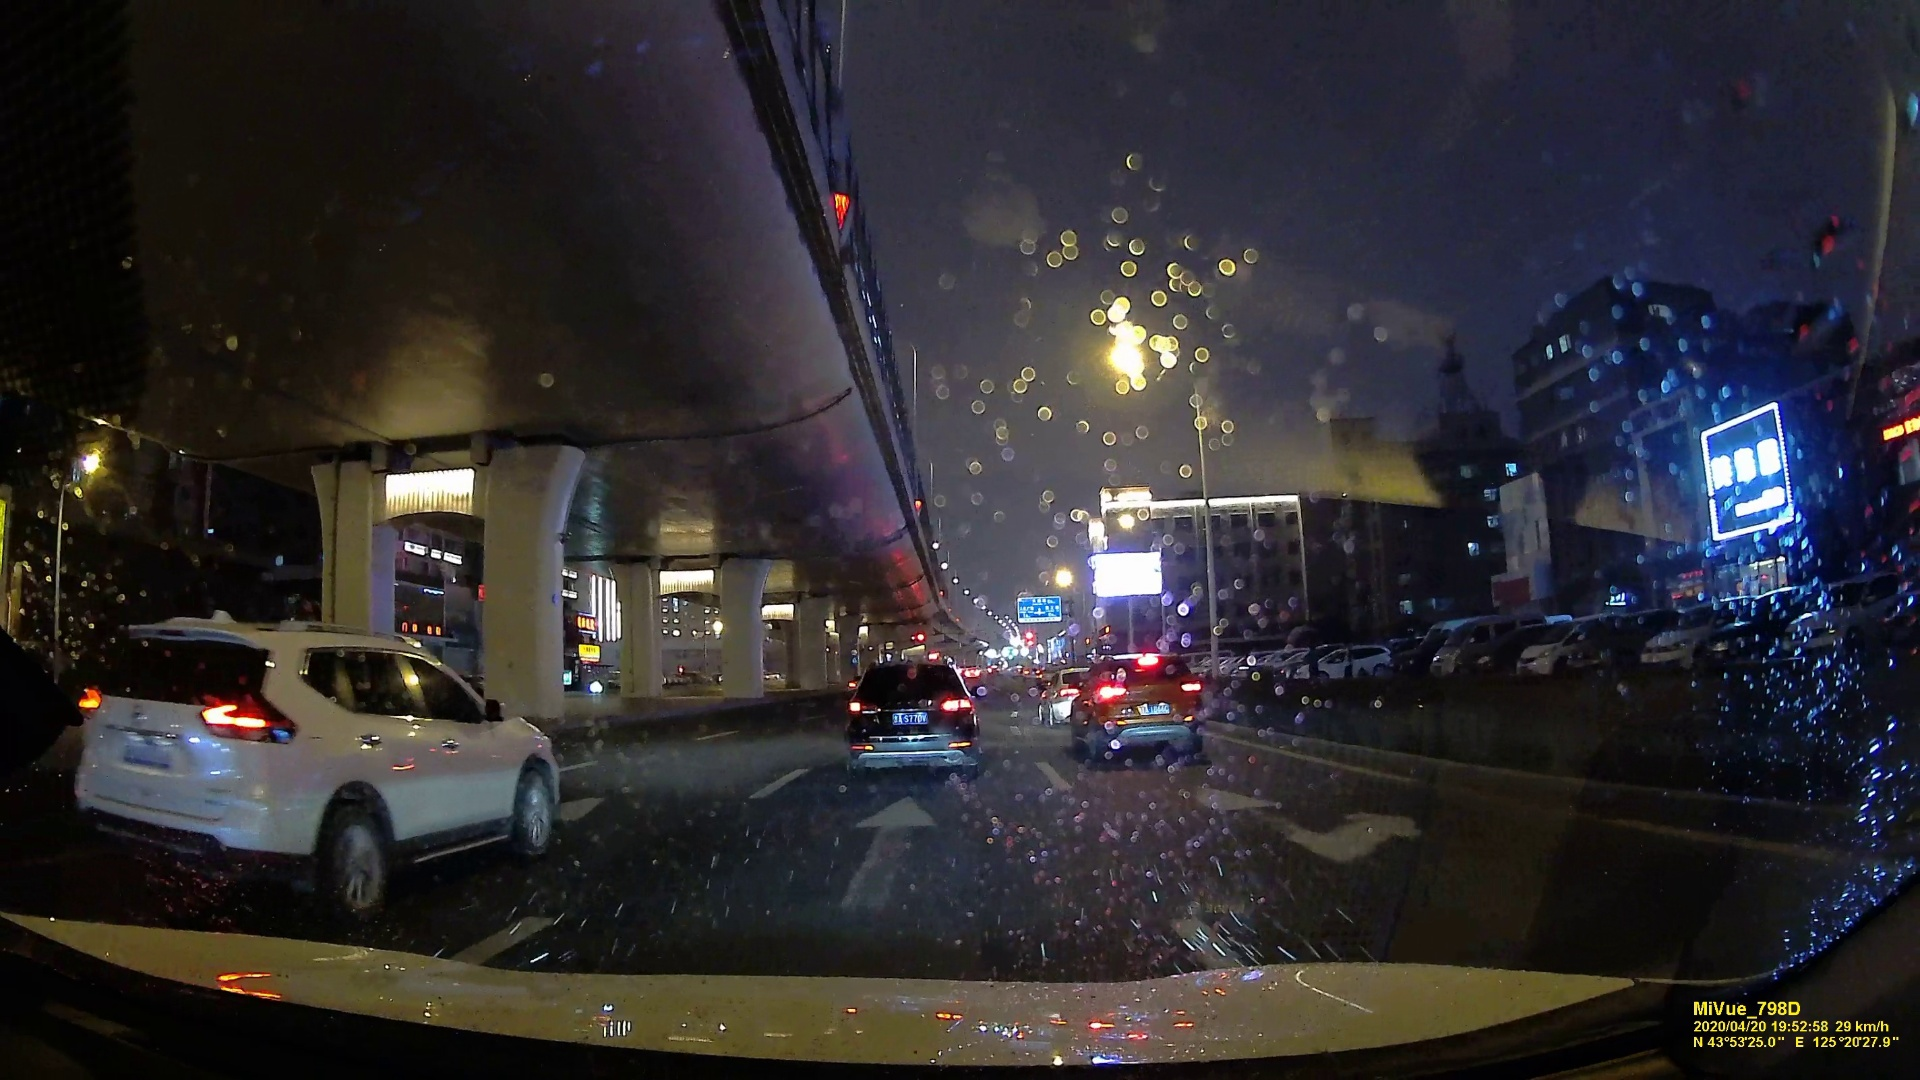traffic_sign: (1019, 593, 1062, 625)
vehicle: (65, 604, 559, 915), (843, 658, 984, 783), (1068, 649, 1211, 762)
